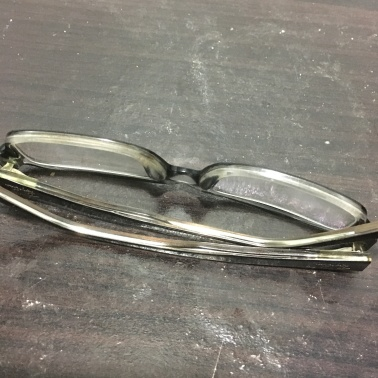glasses: (8, 108, 377, 293)
